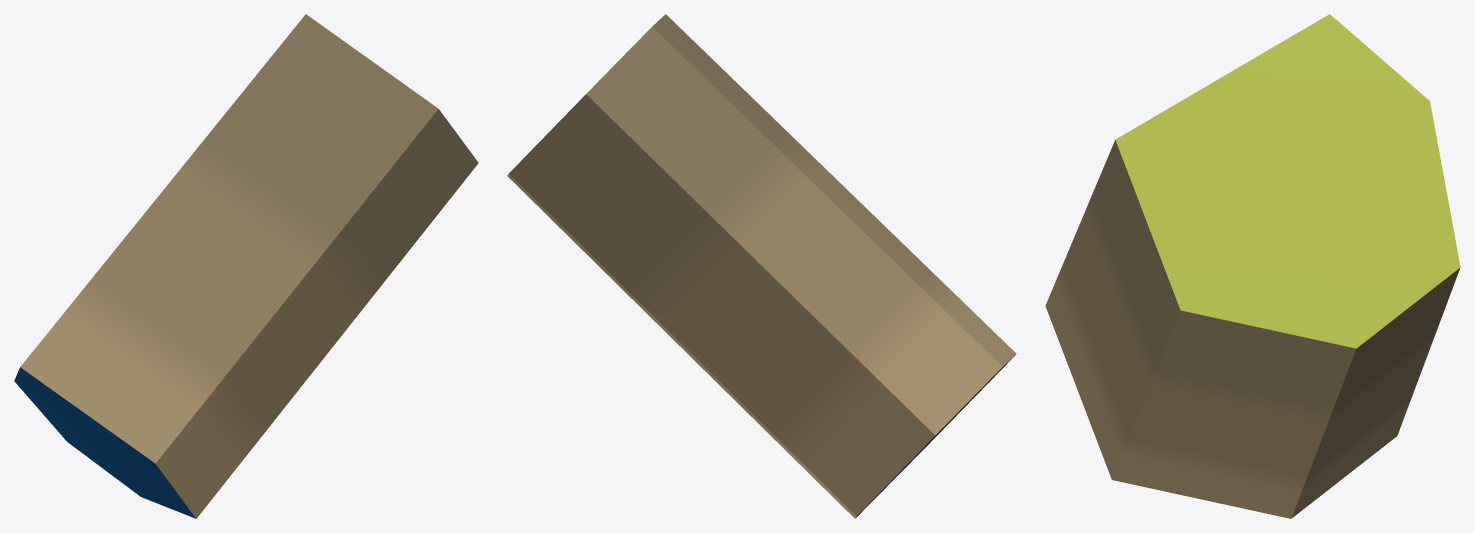
File: 064d_Seychelles.glb
3 views of the same model, side by side, from view 1: azimuth 30°, elevation 25°; view 2: azimuth 150°, elevation 25°; view 3: azimuth 270°, elevation 25° (orthographic). The views are drawn at different scales.
Visible parts, largest first — view 1: part_0; view 2: part_0; view 3: part_0.
Boxes of the visible parts, <box> form: part_0: <box>14,14,478,518</box>; part_0: <box>507,14,1016,518</box>; part_0: <box>1045,14,1460,518</box>.
Bounding box in the file's own units: 0.2185 × 0.2061 × 0.1226.
1 material, 1 textured.
